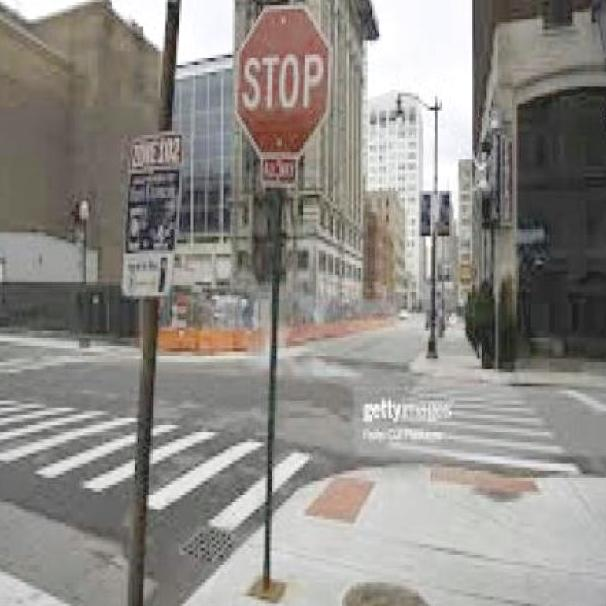stop_sign: (236, 2, 332, 158)
